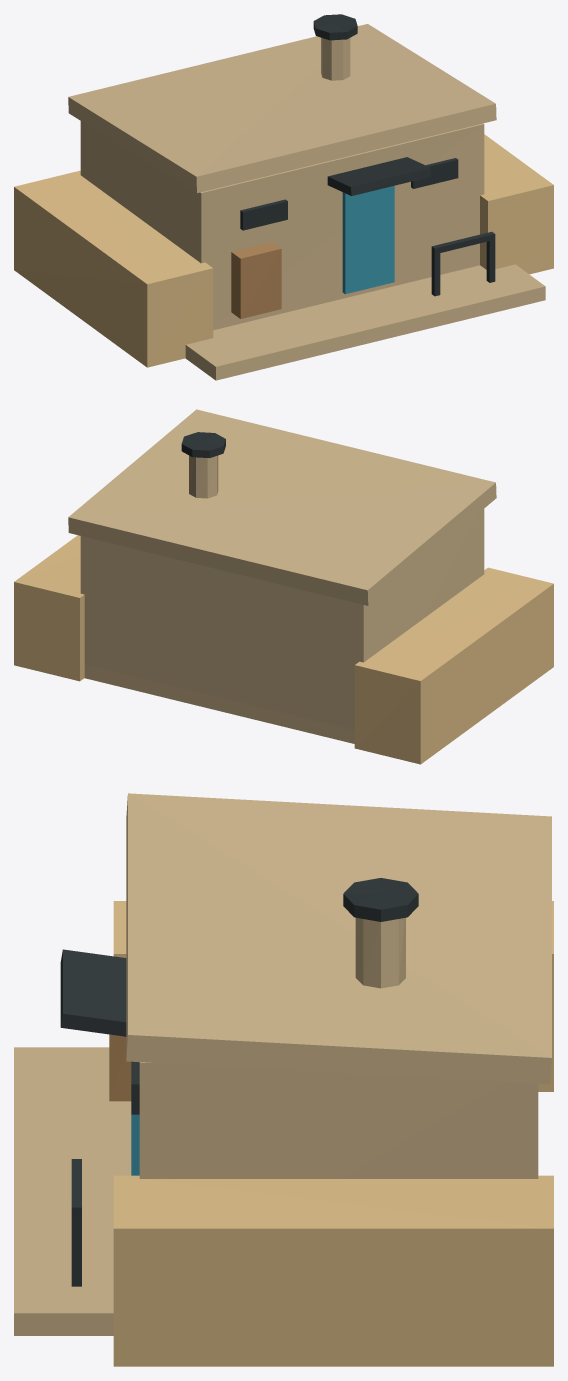
File: storm-shelter.source.glb
The picture shows the model from 3 angles, top to bottom: view 1: azimuth 30°, elevation 25°; view 2: azimuth 150°, elevation 25°; view 3: azimuth 270°, elevation 25°; orthographic projection. The views are drawn at different scales.
Parts seen in each view (by area): view 1: storm-shelter-shallow-sloped-roof-mesh, storm-shelter-low-reinforced-shelter-body-mesh, storm-shelter-low-earth-berm--3.1-mesh, storm-shelter-grounded-entry-apron-mesh, storm-shelter-low-earth-berm-3.1-mesh, storm-shelter-sealed-teal-blast-door-mesh, storm-shelter-warm-emergency-cabinet-mesh, storm-shelter-small-charcoal-door-canopy-mesh, storm-shelter-short-capped-vent-stack-mesh, storm-shelter-high-ventilation-grille--1.45-mesh, storm-shelter-charcoal-vent-cap-mesh, storm-shelter-high-ventilation-grille-1.65-mesh (+2 smaller); view 2: storm-shelter-shallow-sloped-roof-mesh, storm-shelter-low-reinforced-shelter-body-mesh, storm-shelter-low-earth-berm--3.1-mesh, storm-shelter-low-earth-berm-3.1-mesh, storm-shelter-grounded-entry-apron-mesh, storm-shelter-short-capped-vent-stack-mesh, storm-shelter-charcoal-vent-cap-mesh; view 3: storm-shelter-shallow-sloped-roof-mesh, storm-shelter-low-earth-berm-3.1-mesh, storm-shelter-low-reinforced-shelter-body-mesh, storm-shelter-grounded-entry-apron-mesh, storm-shelter-small-charcoal-door-canopy-mesh, storm-shelter-short-capped-vent-stack-mesh, storm-shelter-charcoal-vent-cap-mesh, storm-shelter-warm-emergency-cabinet-mesh, storm-shelter-low-earth-berm--3.1-mesh, storm-shelter-slim-entry-rail-post-2.35-mesh.
Part boxes in pixels (x1,y1,x2,y2): storm-shelter-shallow-sloped-roof-mesh: (68,24,496,193); storm-shelter-low-reinforced-shelter-body-mesh: (80,121,484,330); storm-shelter-low-earth-berm--3.1-mesh: (14,170,213,367); storm-shelter-grounded-entry-apron-mesh: (185,264,545,380); storm-shelter-low-earth-berm-3.1-mesh: (480,134,553,274); storm-shelter-sealed-teal-blast-door-mesh: (342,185,394,294); storm-shelter-warm-emergency-cabinet-mesh: (231,242,281,318); storm-shelter-small-charcoal-door-canopy-mesh: (327,157,431,195); storm-shelter-short-capped-vent-stack-mesh: (321,37,350,80); storm-shelter-high-ventilation-grille--1.45-mesh: (240,199,287,230); storm-shelter-charcoal-vent-cap-mesh: (313,14,357,40); storm-shelter-high-ventilation-grille-1.65-mesh: (411,158,458,188); storm-shelter-shallow-sloped-roof-mesh: (68,409,496,605); storm-shelter-low-reinforced-shelter-body-mesh: (80,509,484,730); storm-shelter-low-earth-berm--3.1-mesh: (354,567,553,764); storm-shelter-low-earth-berm-3.1-mesh: (14,535,84,681); storm-shelter-grounded-entry-apron-mesh: (84,664,354,743); storm-shelter-short-capped-vent-stack-mesh: (189,455,218,498); storm-shelter-charcoal-vent-cap-mesh: (181,432,225,458); storm-shelter-shallow-sloped-roof-mesh: (126,793,551,1084); storm-shelter-low-earth-berm-3.1-mesh: (113,1175,553,1366); storm-shelter-low-reinforced-shelter-body-mesh: (139,1062,538,1178); storm-shelter-grounded-entry-apron-mesh: (14,1047,131,1335); storm-shelter-small-charcoal-door-canopy-mesh: (60,949,126,1036); storm-shelter-short-capped-vent-stack-mesh: (355,917,405,988); storm-shelter-charcoal-vent-cap-mesh: (343,878,418,921); storm-shelter-warm-emergency-cabinet-mesh: (109,1034,131,1101); storm-shelter-low-earth-berm--3.1-mesh: (113,901,553,1091); storm-shelter-slim-entry-rail-post-2.35-mesh: (71,1209,81,1286).
Bounding box in the file's own units: 7.4 × 3.81 × 5.15.
